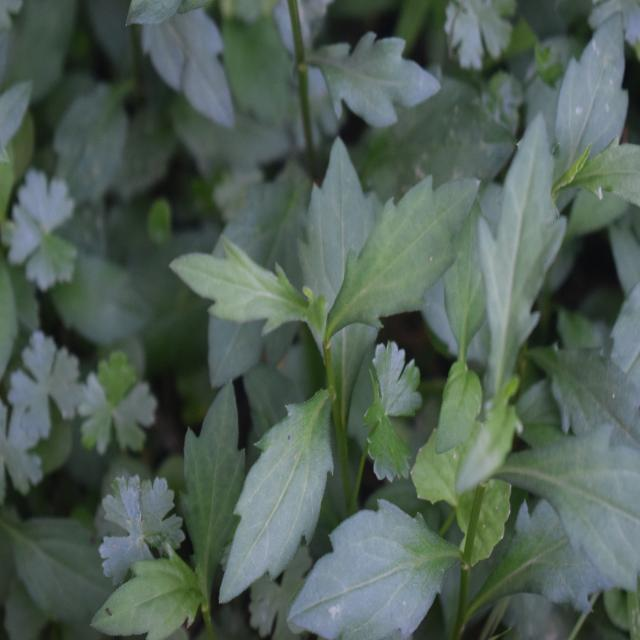Indian aster: (179, 110, 438, 588), (475, 26, 627, 624)
